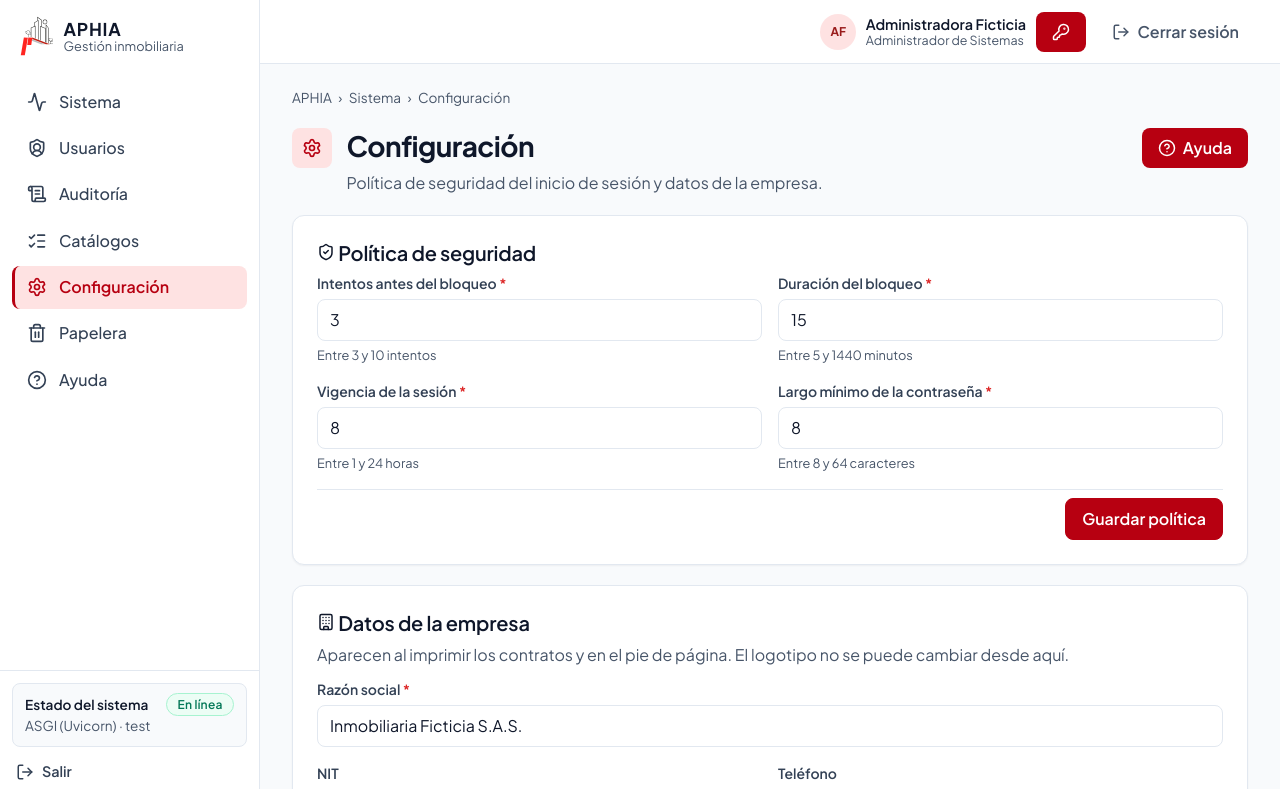
ConfiguracionPage › guarda la política y marca el campo que la API rechaza
This screenshot has width=1280, height=789.
Replace the text in the number field labelled "Intentos antes del bloqueo *" with "11". click: x=540, y=320
box: [317,299,762,341]
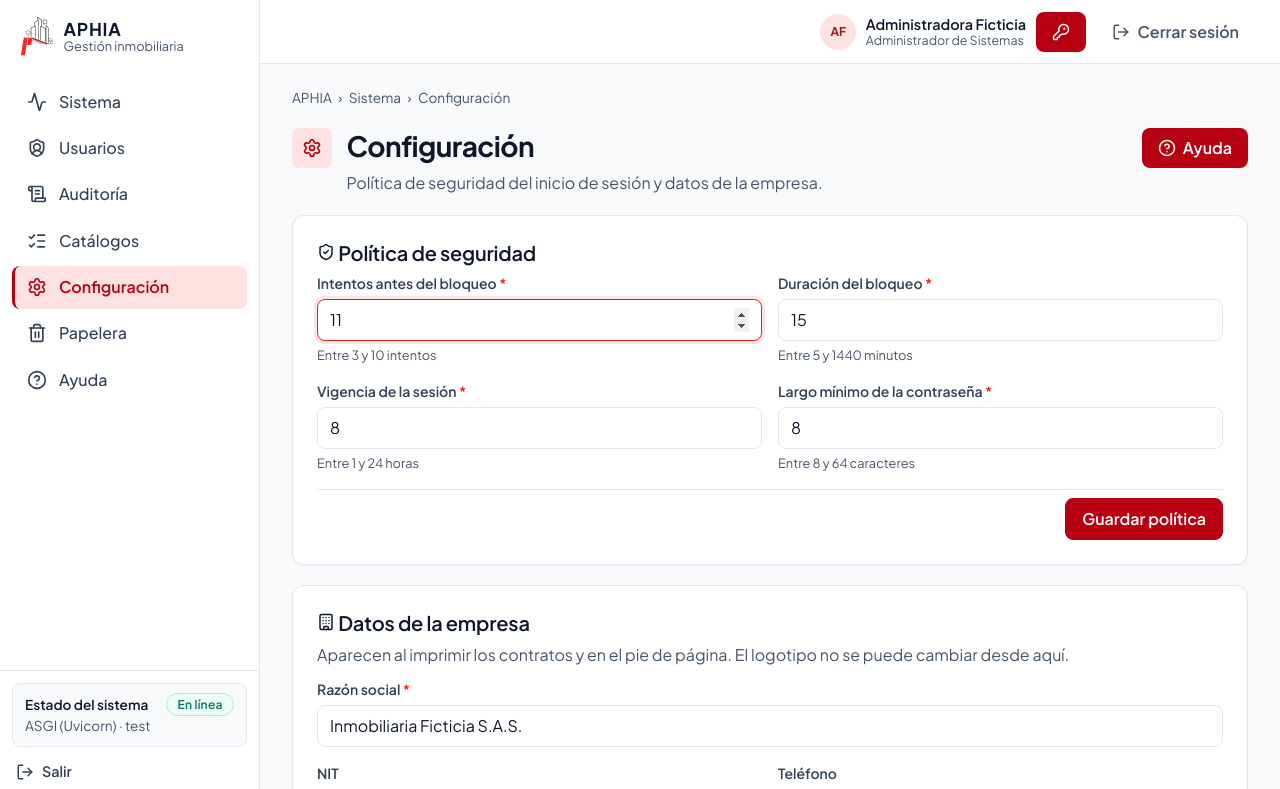
Click the button "Guardar política". click: x=1144, y=519
box: [1065,498,1223,540]
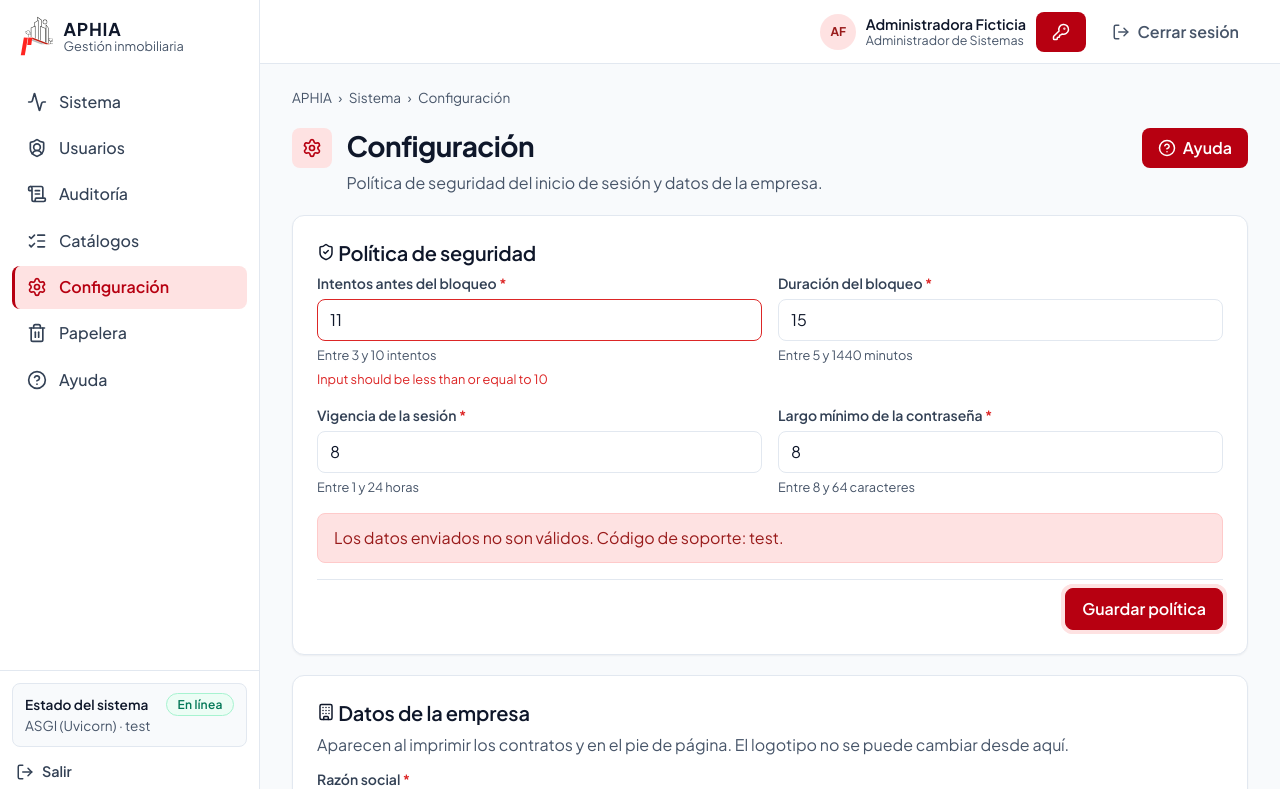
Result: the text "Input should be less than or equal to 10" is shown at [317,371,548,387]
Replace the text in the number field labelled "Intentos antes del bloqueo *" with "5". click: x=540, y=320
box: [317,299,762,341]
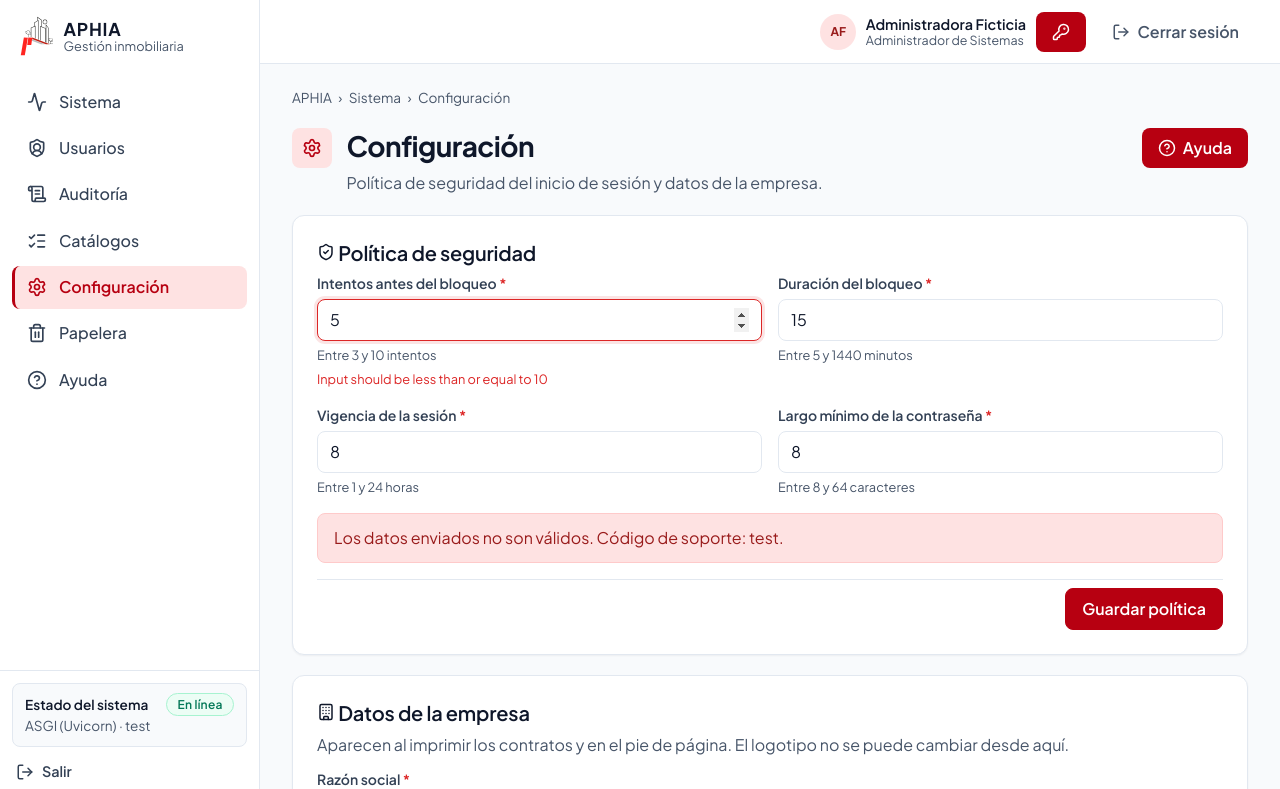
Click the button "Guardar política". click: x=1144, y=609
box: [1065,588,1223,630]
(page scrolled)
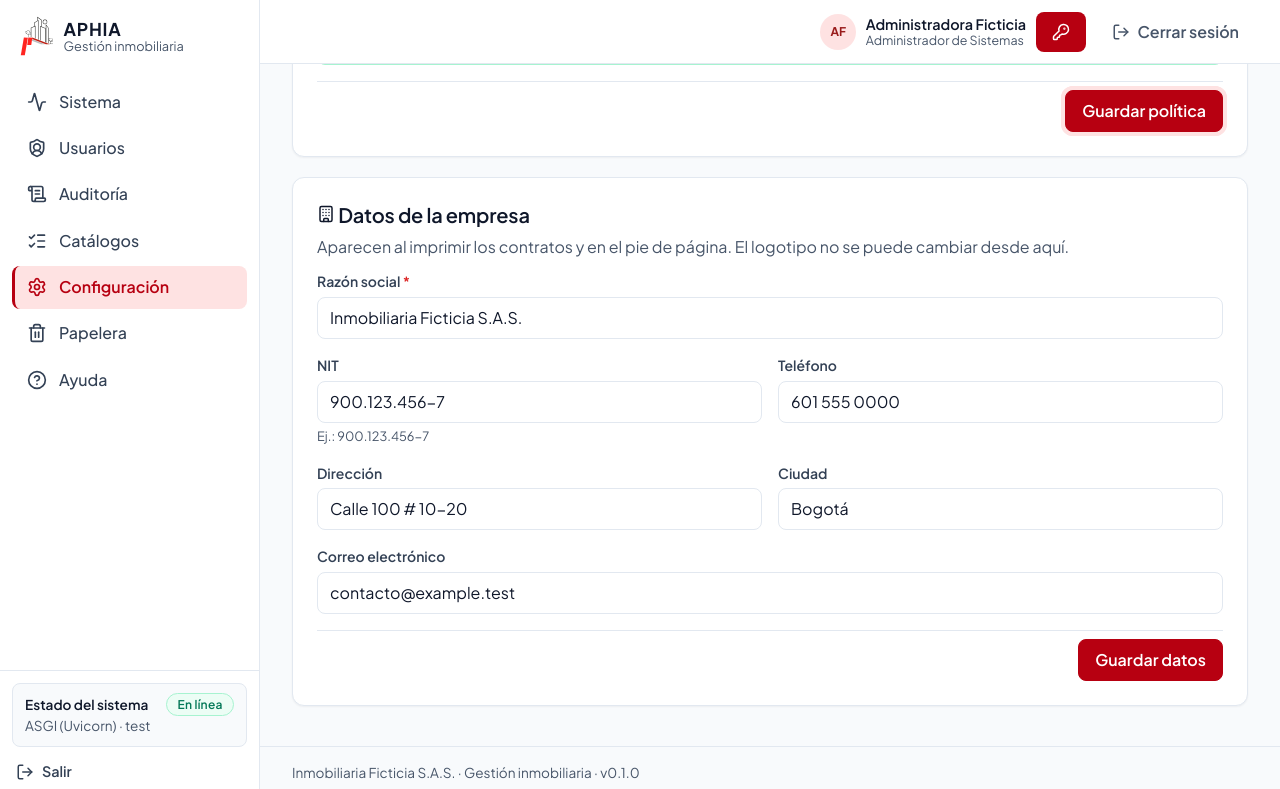
Expected: the field labelled "Razón social *" holds "Inmobiliaria Ficticia S.A.S.", [317,297,1223,339]
Result: the text "Política de seguridad guardada. Rige desde el próximo inicio de sesión." is shown at [317,15,1223,65]
Click the button "Guardar datos". click: x=1151, y=660
box: [1078,639,1223,681]
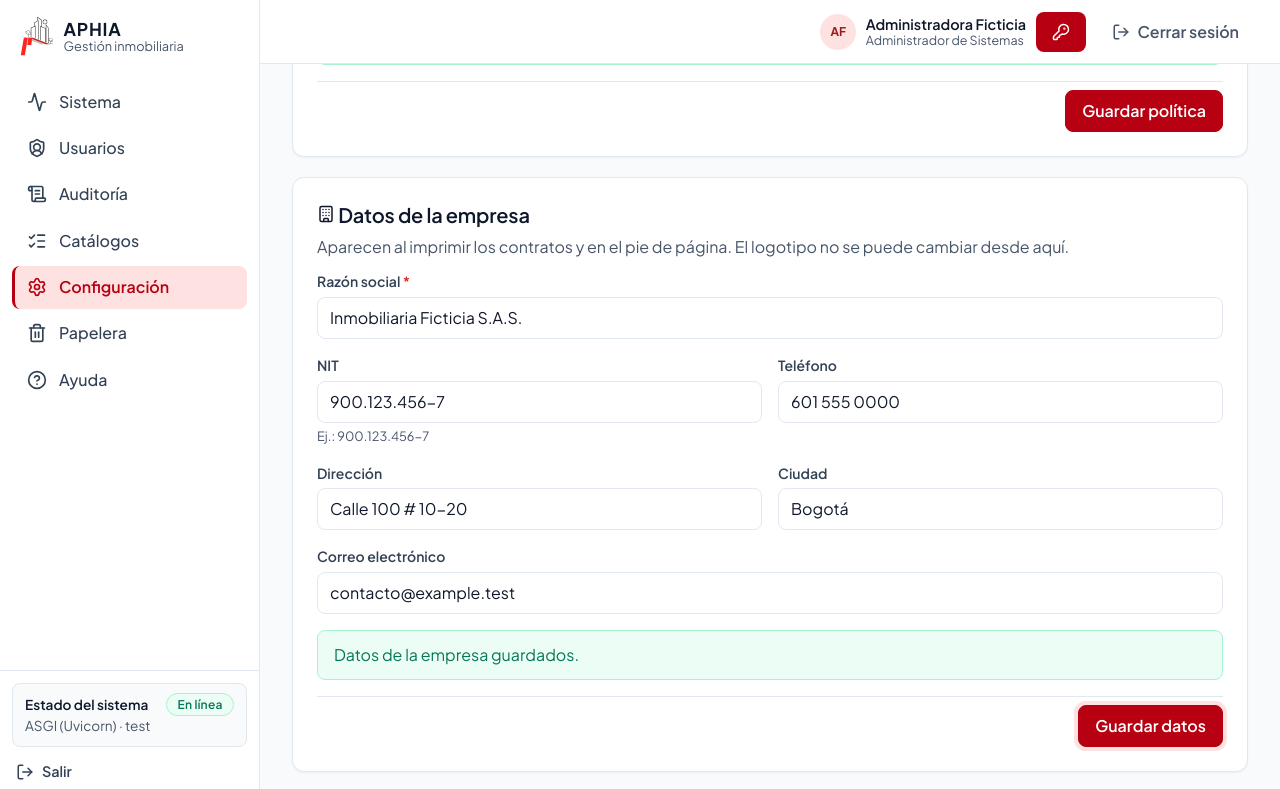
Result: the text "Datos de la empresa guardados." is shown at [317,630,1223,680]
